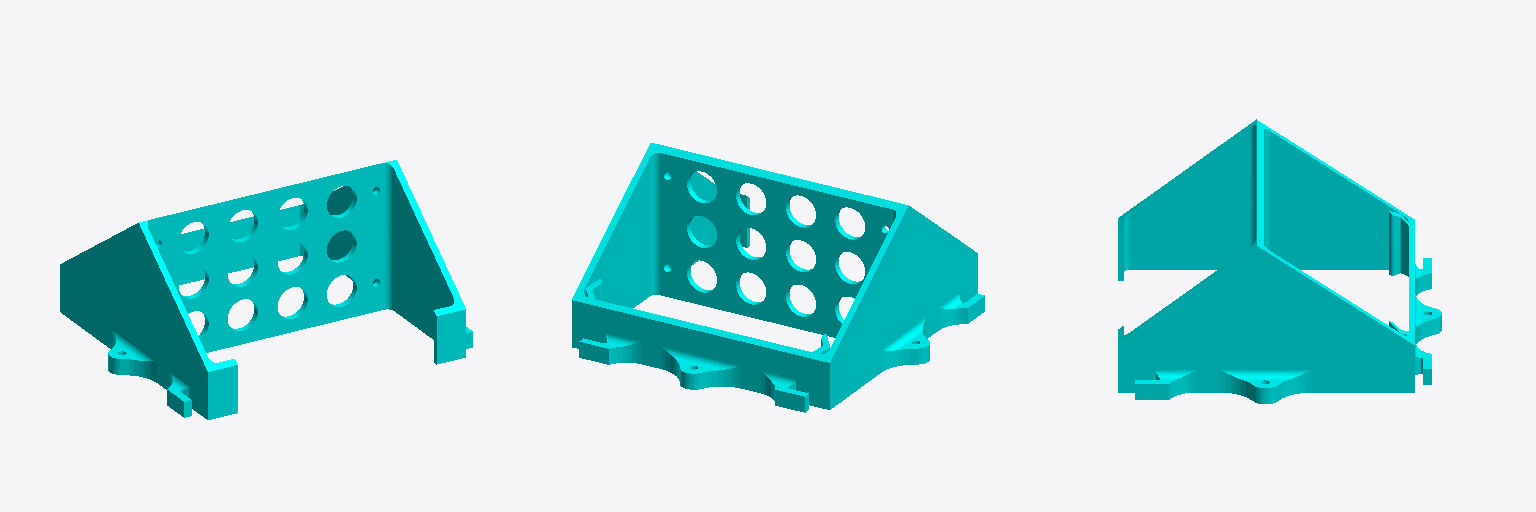
Rendered from PowerTool-Batteries&PCB-Stack_Mount.obj.
3 renders of one model, left to right at view 1: azimuth 30°, elevation 25°; view 2: azimuth 150°, elevation 25°; view 3: azimuth 270°, elevation 25°, orthographic.
Parts seen in each view (by area): view 1: ElectronicsMount(Printable)\ElectronicsMount; view 2: ElectronicsMount(Printable)\ElectronicsMount; view 3: ElectronicsMount(Printable)\ElectronicsMount.
Boxes of the visible parts, x1,y1,x2,y2 form: ElectronicsMount(Printable)\ElectronicsMount: [60, 160, 472, 419]; ElectronicsMount(Printable)\ElectronicsMount: [572, 143, 984, 412]; ElectronicsMount(Printable)\ElectronicsMount: [1118, 119, 1441, 403].
Bounding box in the file's own units: 122 × 56.08 × 112.